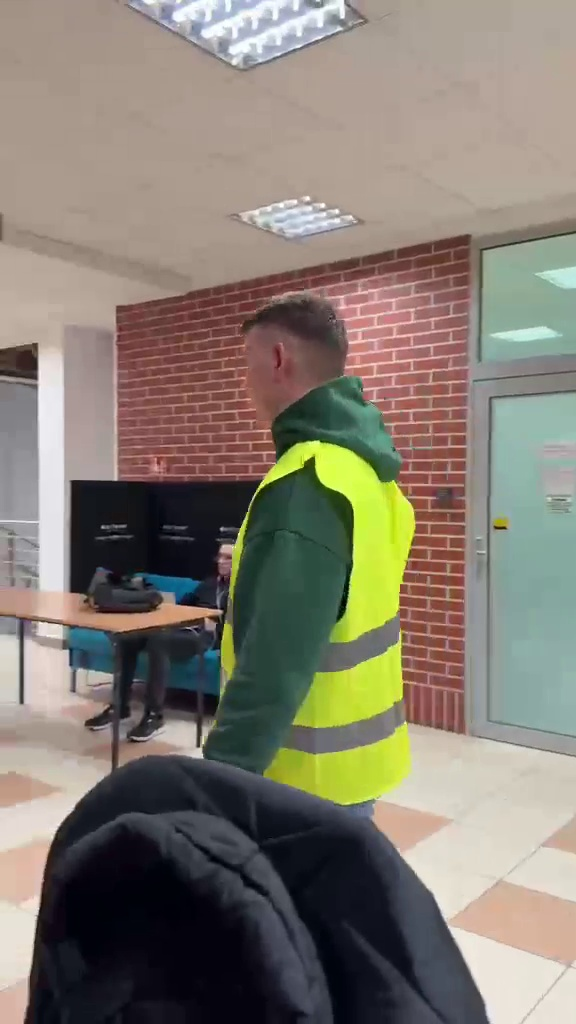vest: (223, 285, 417, 822)
